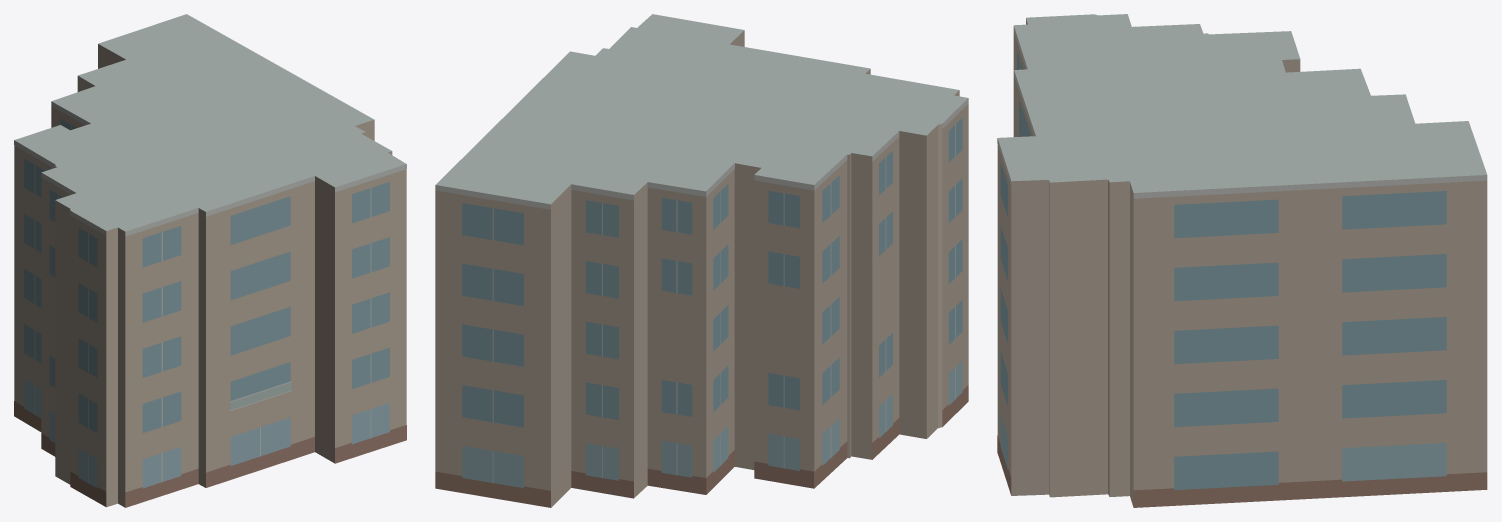
The model's file is survey-upis-32660592.glb.
3 renders of one model, left to right at view 1: azimuth 30°, elevation 25°; view 2: azimuth 150°, elevation 25°; view 3: azimuth 270°, elevation 25°, orthographic. The views are drawn at different scales.
Parts seen in each view (by area): view 1: survey-upis-32660592.tmp; view 2: survey-upis-32660592.tmp; view 3: survey-upis-32660592.tmp.
Part boxes in pixels (x1=…): survey-upis-32660592.tmp: x1=14, y1=14, x2=406, y2=507; survey-upis-32660592.tmp: x1=435, y1=14, x2=968, y2=507; survey-upis-32660592.tmp: x1=997, y1=14, x2=1487, y2=507.
Size of the model in its own units: 16.41 by 13.45 by 18.97.
